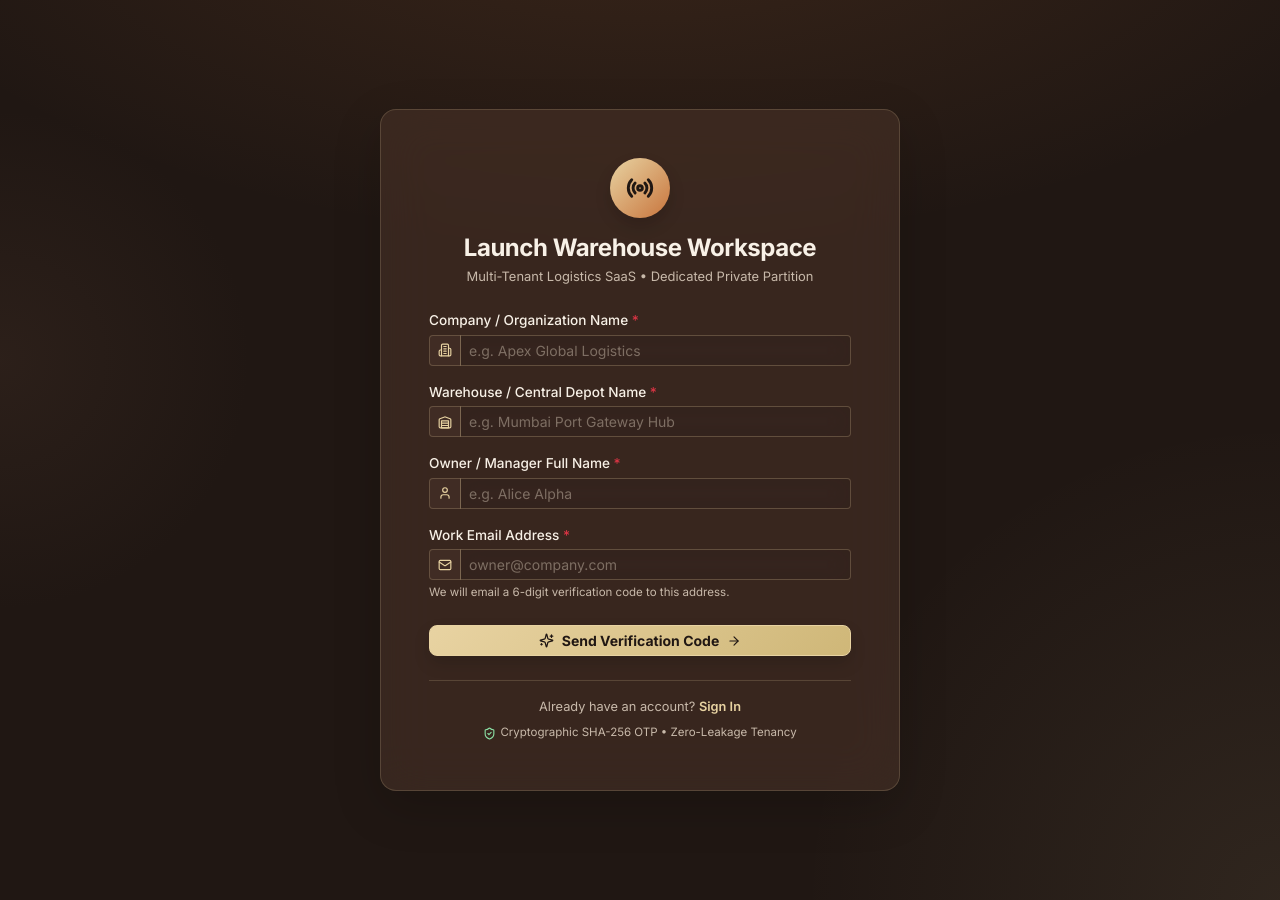
Scenario: Phase 11 — Multi-Tenant SaaS, Public Landing Page & Email OTP Authentication › SignupPage (2-Step Email OTP Onboarding) › displays contextual error when OTP expires during verification
# Submit step 1
Step 1. Type "Apex Logistics Corp" into the field labelled "Company / Organization Name *" → (656, 350), box [460,335,851,366]
Step 2. Type "Mumbai West Depot" into the field labelled "Warehouse / Central Depot Name *" → (656, 422), box [460,406,851,437]
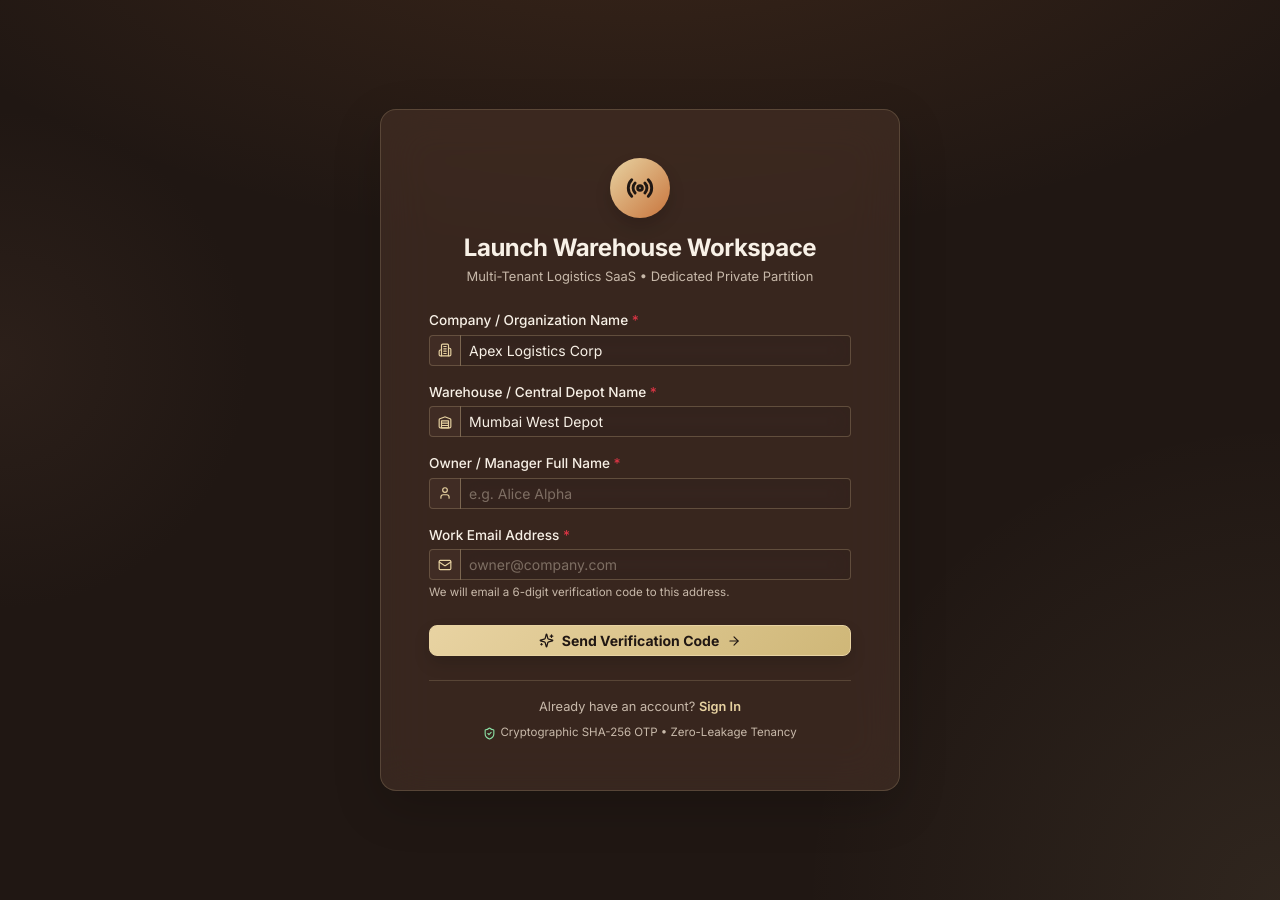
Step 3. Type "Warehouse Owner" into the field labelled "Owner / Manager Full Name *" → (656, 493), box [460,478,851,509]
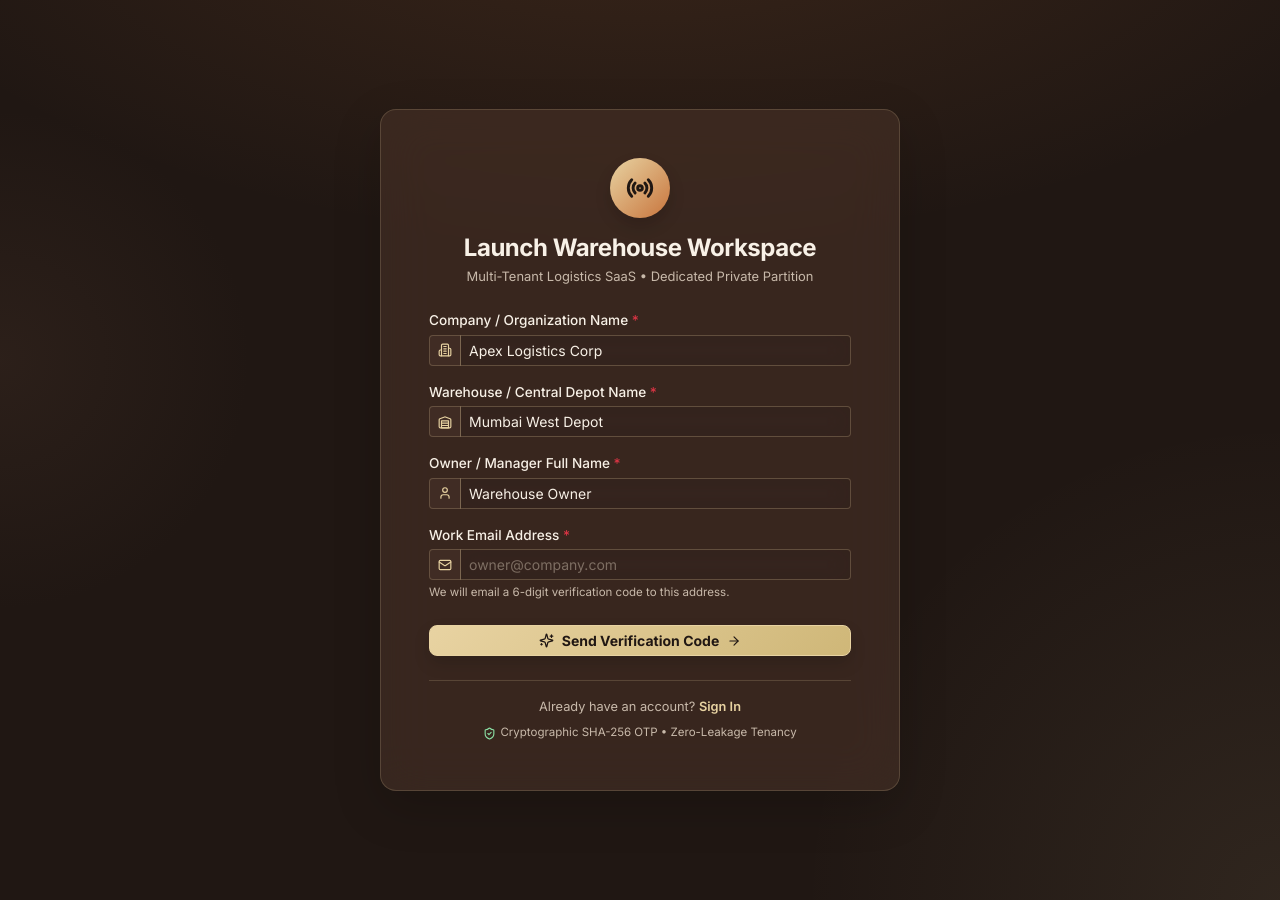
Step 4. Type "owner@warehouse.test" into the field labelled "Work Email Address *" → (656, 564), box [460,549,851,580]
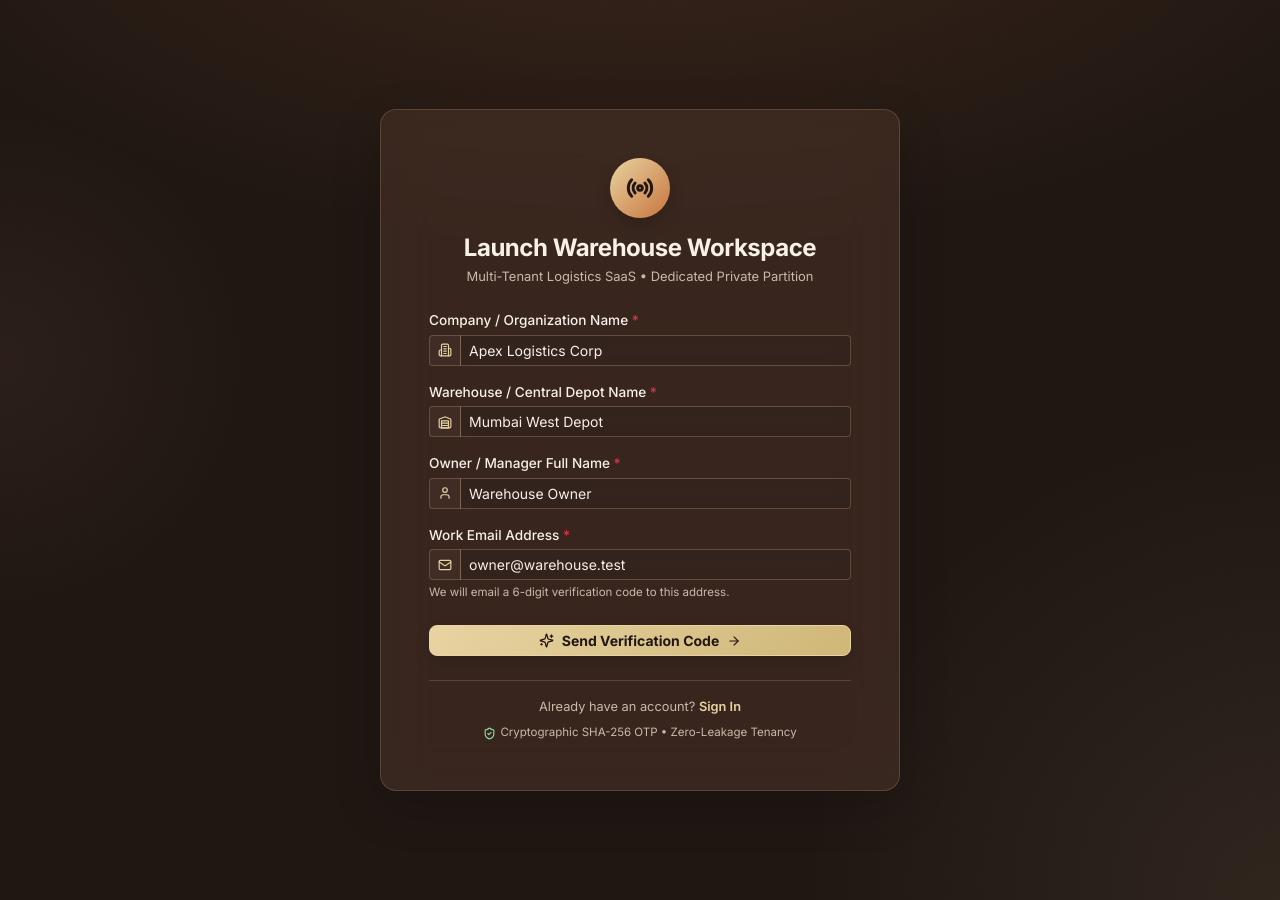
Step 5. Click the button "Send Verification Code" → (640, 641), box [429,625,851,656]
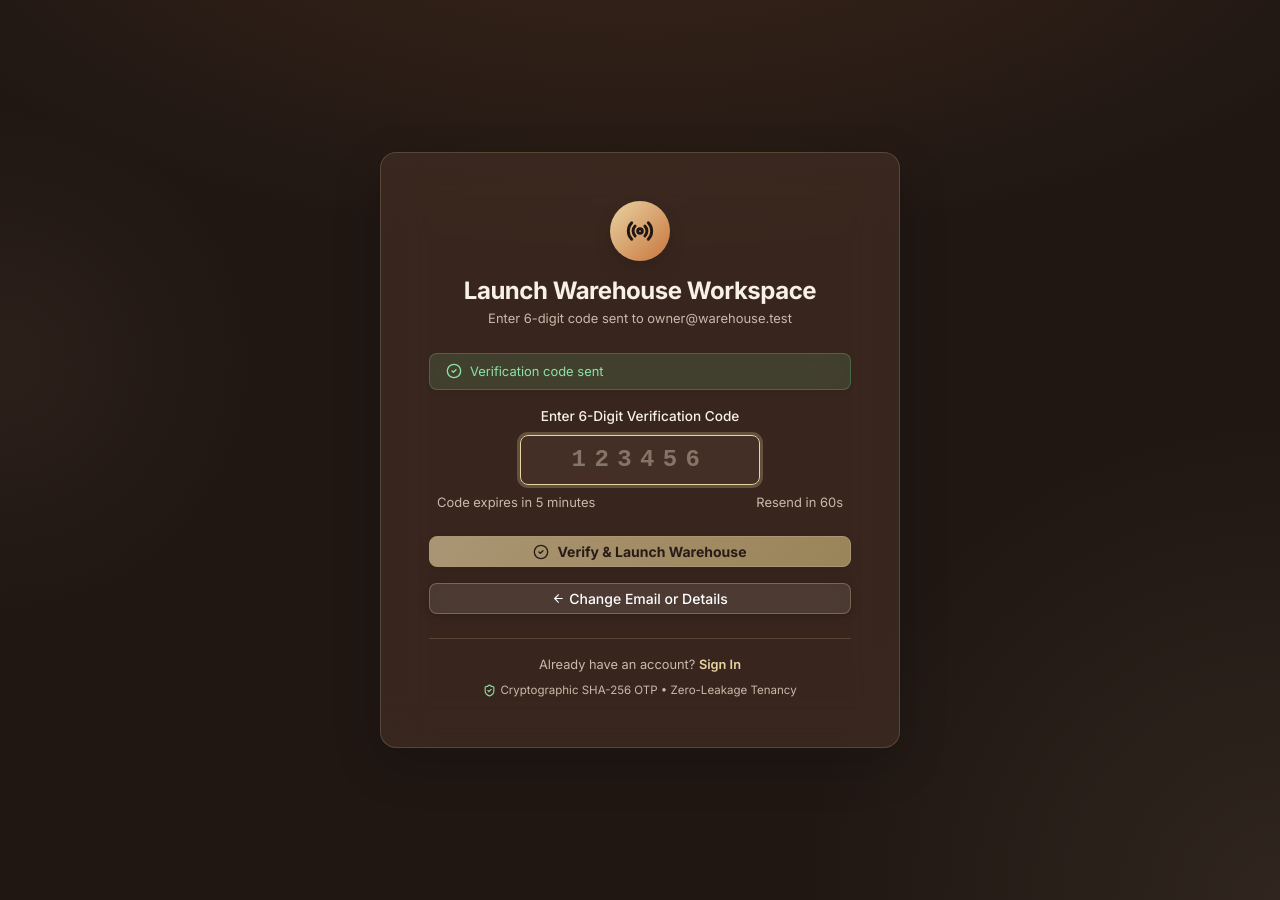
expect the field labelled "Enter 6-Digit Verification Code" is shown: met
# Enter expired code
Step 6. Type "111111" into the field labelled "Enter 6-Digit Verification Code" → (640, 460), box [520,435,760,485]
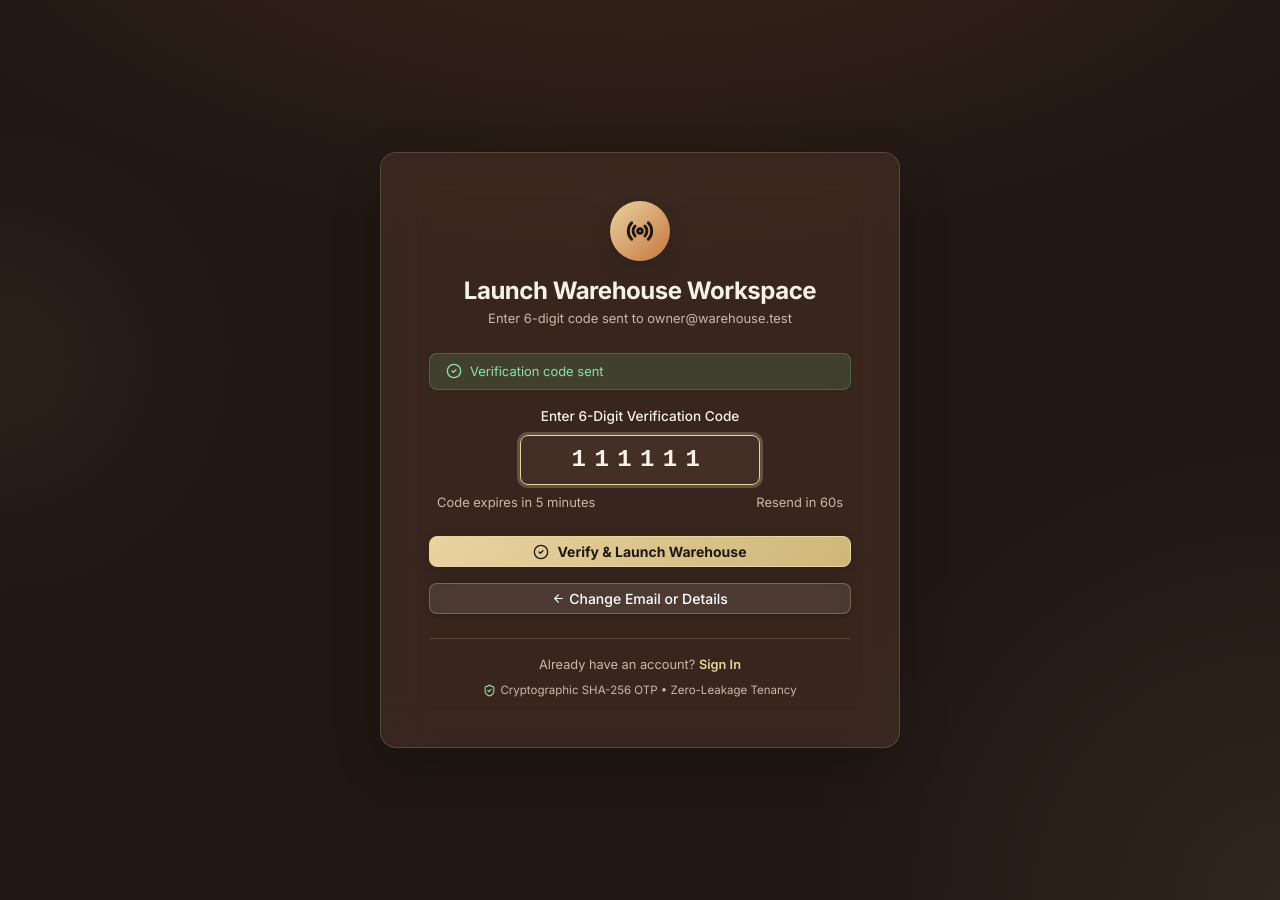
Step 7. Click the button "Verify & Launch Warehouse" → (640, 552), box [429,536,851,567]
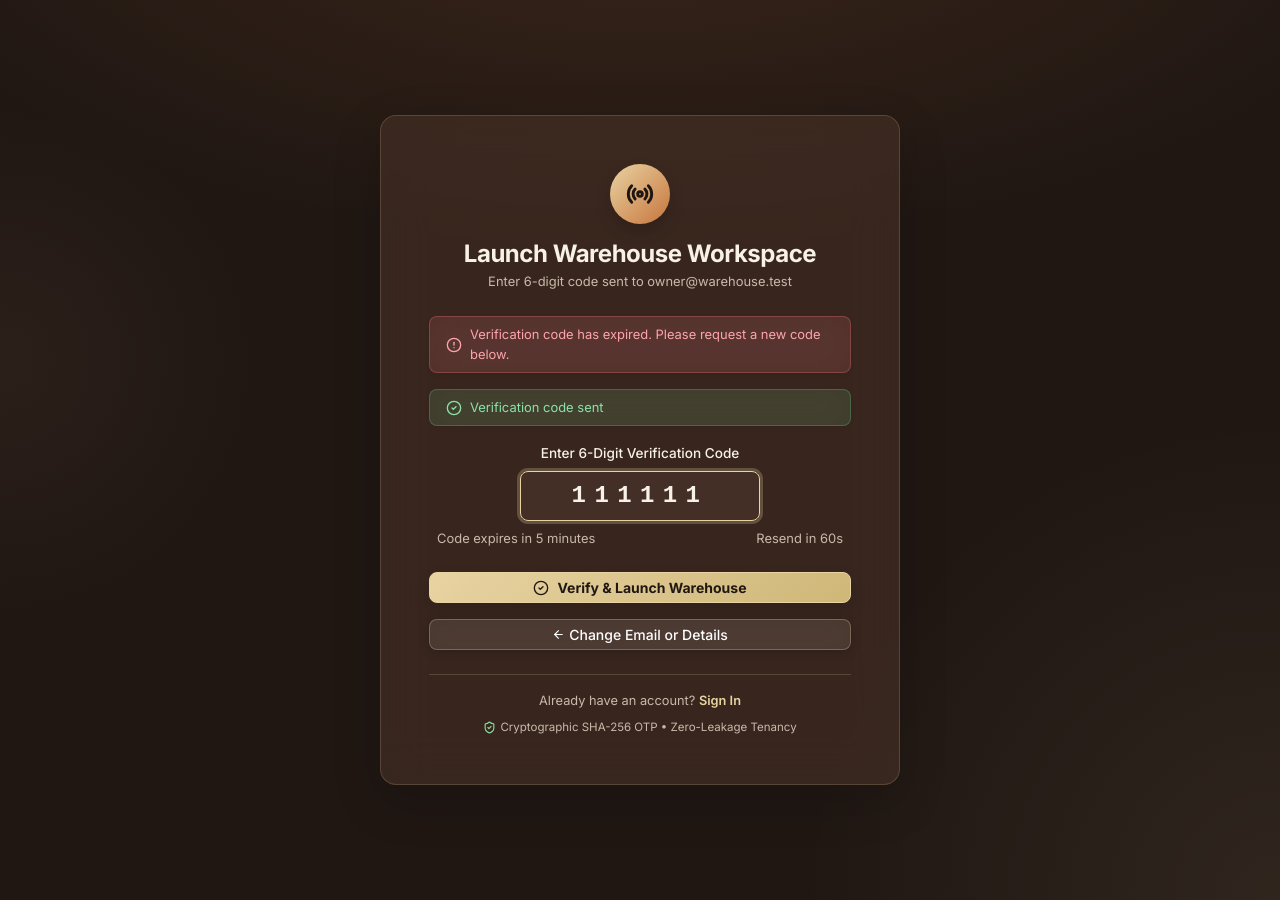
expect the text "Verification code has expired. Please request a new code below." is shown: met, box [470,325,834,364]
